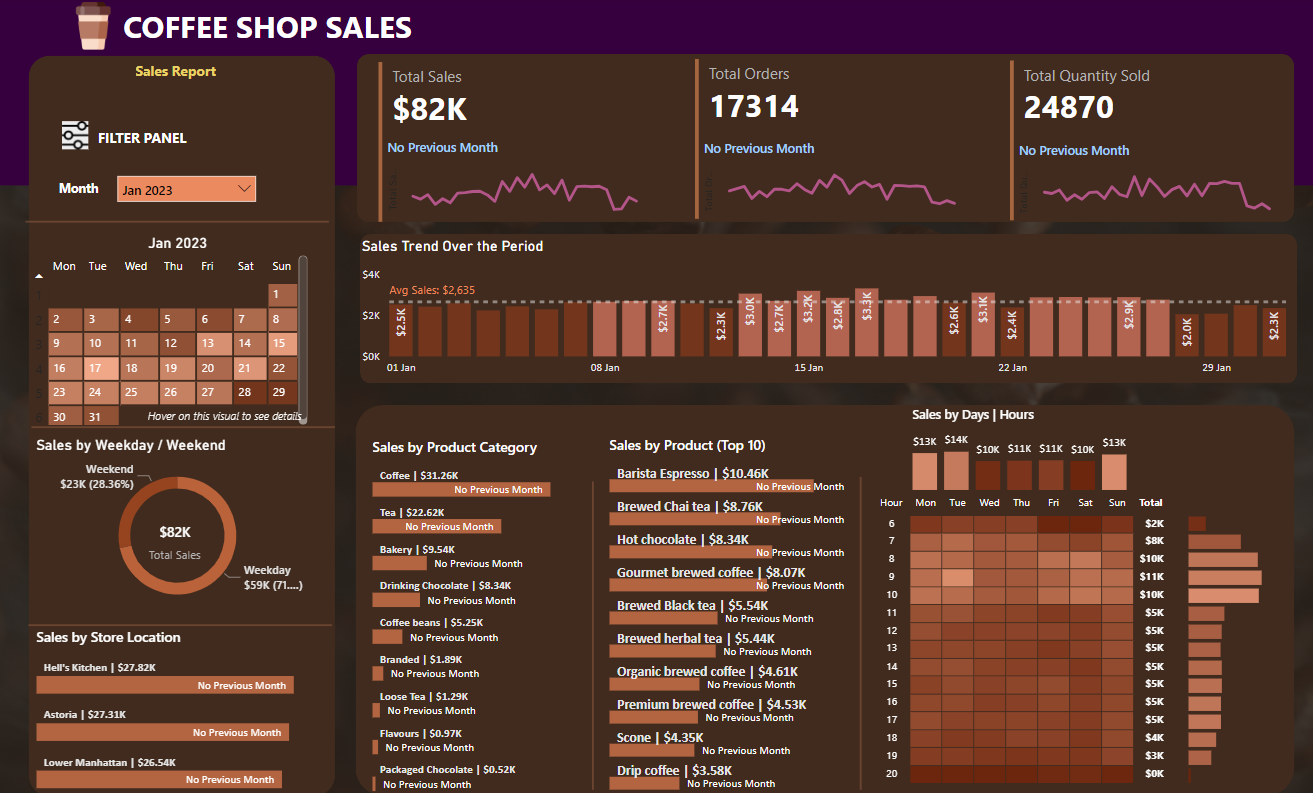

What the dashboard file says about the page in this screenshot:
{"tool":"powerbi","page":{"name":"Coffee Shop Sales","canvas":[1400,850],"ordinal":0},"visuals":[{"type":"shape","box":[0,0,1399.5,200.4],"z":0},{"type":"cardVisual","fields":{"Data":["Transactions.Total Orders"]},"box":[733.3,61.3,294.8,180.5],"z":0,"group":"g2"},{"type":"cardVisual","fields":{"Data":["Transactions.Total Quantity Sold"]},"box":[1069.5,62.9,294.8,180.5],"z":0,"group":"g3"},{"type":"cardVisual","fields":{"Data":["Transactions.Total_sales"]},"box":[397.1,64.6,294.3,180.5],"z":0,"group":"g1"},{"type":"shape","box":[29.8,61.7,326.3,788.3],"z":1000},{"type":"lineChart","fields":{"Y":["Transactions.Total Sales"],"Category":["Date_table.Date Hierarchy.Date"]},"box":[407,150.7,284.9,82.8],"z":1000,"group":"g1"},{"type":"lineChart","fields":{"Category":["Date_table.Date Hierarchy.Date"],"Y":["Transactions.Total Orders"]},"box":[742.3,151.8,286.5,82.8],"z":1000,"group":"g2"},{"type":"lineChart","fields":{"Category":["Date_table.Date Hierarchy.Date"],"Y":["Transactions.Total Quantity Sold"]},"box":[1078.5,153.4,286.5,82.8],"z":1000,"group":"g3"},{"type":"shape","box":[379.3,61.3,997,178.9],"z":2000},{"type":"textbox","box":[58,188.8,64.6,33.1],"z":3000},{"type":"slicer","fields":{"Values":["Date_table.Month_Year"]},"box":[119.2,185.5,157.3,41.4],"z":4000},{"type":"group","id":"g1","title":"Group 1","box":[397.1,64.6,294.8,180.5],"z":5000},{"type":"group","id":"g2","title":"Group 1","box":[733.3,61.3,294.8,180.5],"z":6000},{"type":"group","id":"g3","title":"Group 1","box":[1069.5,62.9,294.8,180.5],"z":7000},{"type":"pivotTable","fields":{"Columns":["Date_table.Day Name"],"Values":["Min(Date_table.Day Number)"],"Rows":["Date_table.Week Number"]},"box":[26.5,270,304.7,190.5],"z":8000},{"type":"card","fields":{"Values":["Min(Date_table.Month_Year)"]},"box":[129.2,246.8,119.2,24.8],"z":9000},{"type":"card","fields":{"Values":["Transactions.Foot Note"]},"box":[147.4,433.9,183.8,28.2],"z":10000},{"type":"shape","box":[33.1,445.5,323,24.8],"z":11000},{"type":"shape","box":[26.5,226.9,323,24.8],"z":12000},{"type":"donutChart","title":"Sales by Weekday / Weekend","fields":{"Category":["Date_table.Weekday / Weekend"],"Y":["Transactions.Total Sales"]},"box":[33.1,467,309.7,192.1],"z":13000},{"type":"card","fields":{"Values":["Transactions.Total Sales"]},"box":[125.9,549.8,119.2,56.3],"z":14000},{"type":"clusteredBarChart","title":"Sales by Store Location","fields":{"Category":["Transactions.store_location"],"Y":["Transactions.Placeholder","Transactions.Total Sales"]},"box":[33.1,670.7,309.7,178.9],"z":15000},{"type":"shape","box":[29.8,655.8,323,24.8],"z":16000},{"type":"shape","box":[382.6,251.7,997,159],"z":17000},{"type":"clusteredColumnChart","title":"Sales Trend Over the Period","fields":{"Y":["Transactions.Total Sales"],"Category":["Transactions.transaction_date"]},"box":[379.3,255,997,155.7],"z":18000},{"type":"shape","box":[377.6,433.9,998.7,415.7],"z":19000},{"type":"clusteredBarChart","title":"Sales by Product Category","fields":{"Y":["Transactions.Placeholder","Transactions.Total Sales"],"Category":["Transactions.product_category"]},"box":[390.9,467,228.6,382.6],"z":20000},{"type":"shape","box":[619.4,515.1,23.2,327.9],"z":21000},{"type":"clusteredBarChart","title":"Sales by Product (Top 10)","fields":{"Y":["Transactions.Placeholder","Transactions.Total Sales"],"Category":["Transactions.product_type"]},"box":[642.6,465.4,260,382.6],"z":22000},{"type":"shape","box":[902.6,510.1,24.8,332.9],"z":23000},{"type":"pivotTable","fields":{"Values":["Transactions.Total Sales"],"Rows":["Transactions.Hour"],"Columns":["Date_table.Day Name"]},"box":[924.1,525,334.5,324.6],"z":24000},{"type":"barChart","fields":{"Category":["Transactions.Hour"],"Y":["Transactions.Total Sales"]},"box":[1258.7,539.9,120.9,301.4],"z":25000},{"type":"columnChart","title":"Sales by Days | Hours","fields":{"Y":["Transactions.Total Sales"],"Category":["Date_table.Day Name"]},"box":[965.5,433.9,238.5,96.1],"z":26000},{"type":"textbox","box":[139.1,62.9,109.3,38.1],"z":27000},{"type":"textbox","box":[125.9,3.3,362.7,64.6],"z":28000},{"type":"textbox","box":[99.4,134.1,114.3,29.8],"z":29000},{"type":"image","box":[67.9,0,61.3,61.3],"z":30000},{"type":"image","box":[61.3,125.9,38.1,41.4],"z":31000}]}

Visuals, with their boxes in screenshot pixels (x1, y1, x2, y2), scaled from the page's 1400x850 canvas onto the 1313x793 screenshot:
shape: box=[0, 0, 1312, 187]
cardVisual - Transactions.Total Orders: box=[688, 57, 964, 226]
cardVisual - Transactions.Total Quantity Sold: box=[1003, 59, 1280, 227]
cardVisual - Transactions.Total_sales: box=[372, 60, 648, 229]
shape: box=[28, 58, 334, 792]
lineChart - Transactions.Total Sales x Date_table.Date Hierarchy.Date: box=[382, 141, 649, 218]
lineChart - Date_table.Date Hierarchy.Date x Transactions.Total Orders: box=[696, 142, 965, 219]
lineChart - Date_table.Date Hierarchy.Date x Transactions.Total Quantity Sold: box=[1011, 143, 1280, 220]
shape: box=[356, 57, 1291, 224]
textbox: box=[54, 176, 115, 207]
slicer - Date_table.Month_Year: box=[112, 173, 259, 212]
"Group 1" group: box=[372, 60, 649, 229]
"Group 1" group: box=[688, 57, 964, 226]
"Group 1" group: box=[1003, 59, 1280, 227]
pivotTable - Date_table.Day Name x Min(Date_table.Day Number): box=[25, 252, 311, 430]
card - Min(Date_table.Month_Year): box=[121, 230, 233, 253]
card - Transactions.Foot Note: box=[138, 405, 311, 431]
shape: box=[31, 416, 334, 439]
shape: box=[25, 212, 328, 235]
"Sales by Weekday / Weekend" donutChart: box=[31, 436, 321, 615]
card - Transactions.Total Sales: box=[118, 513, 230, 565]
"Sales by Store Location" clusteredBarChart: box=[31, 626, 321, 792]
shape: box=[28, 612, 331, 635]
shape: box=[359, 235, 1294, 383]
"Sales Trend Over the Period" clusteredColumnChart: box=[356, 238, 1291, 383]
shape: box=[354, 405, 1291, 792]
"Sales by Product Category" clusteredBarChart: box=[367, 436, 581, 792]
shape: box=[581, 481, 603, 786]
"Sales by Product (Top 10)" clusteredBarChart: box=[603, 434, 847, 791]
shape: box=[847, 476, 870, 786]
pivotTable - Transactions.Total Sales x Transactions.Hour: box=[867, 490, 1180, 792]
barChart - Transactions.Hour x Transactions.Total Sales: box=[1180, 504, 1294, 785]
"Sales by Days | Hours" columnChart: box=[906, 405, 1129, 494]
textbox: box=[130, 59, 233, 94]
textbox: box=[118, 3, 458, 63]
textbox: box=[93, 125, 200, 153]
image: box=[64, 0, 121, 57]
image: box=[57, 117, 93, 156]
